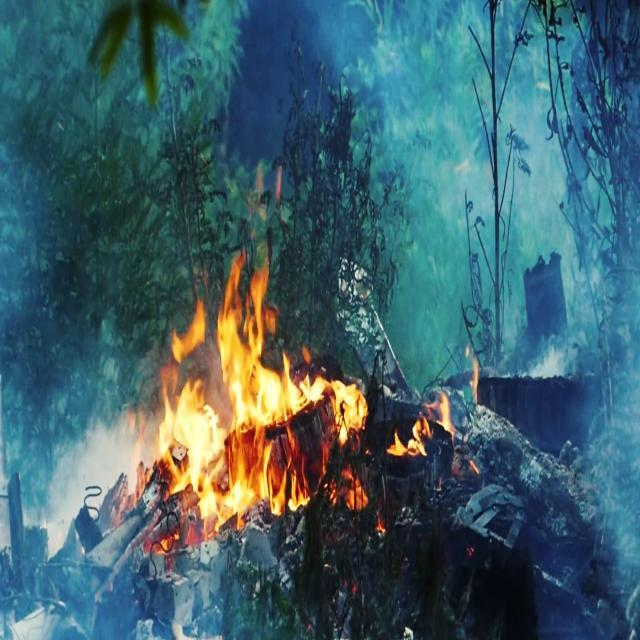Fire: (140, 226, 312, 551), (323, 356, 428, 511)
Smoke: (343, 9, 640, 392), (0, 272, 154, 624)
